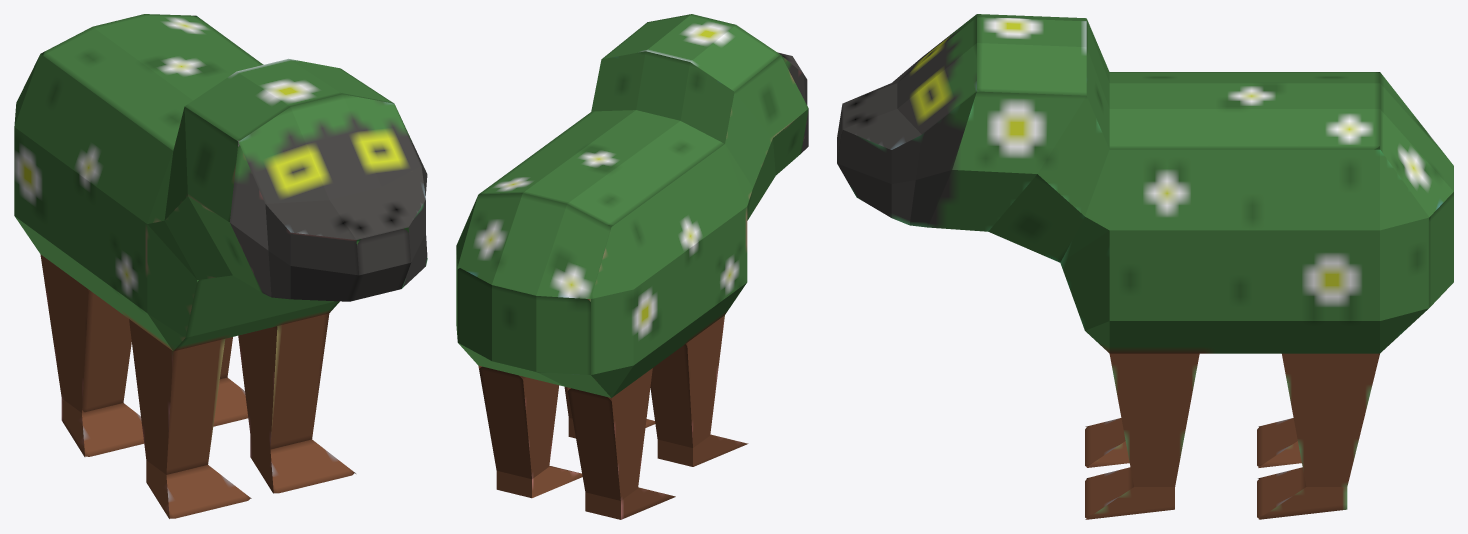
Rendered from barometz.obj.
3 views of the same model, side by side, from view 1: azimuth 30°, elevation 25°; view 2: azimuth 150°, elevation 25°; view 3: azimuth 270°, elevation 25° (orthographic). The views are drawn at different scales.
Visible parts, largest first — view 1: beveled_cuboid; view 2: beveled_cuboid; view 3: beveled_cuboid.
Part boxes in pixels (<box>): beveled_cuboid: <box>14,14,427,518</box>; beveled_cuboid: <box>456,14,808,519</box>; beveled_cuboid: <box>837,14,1453,519</box>.
Bounding box in the file's own units: 0.3125 × 0.625 × 0.7881.
1 material, 1 textured.
